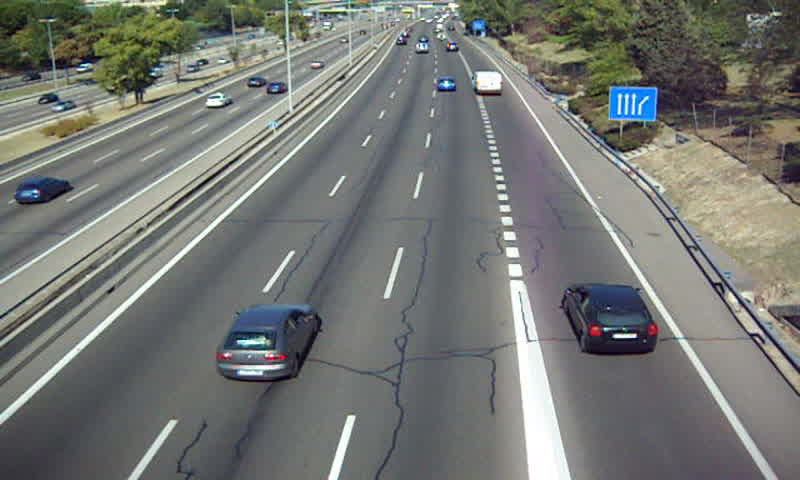car: (215, 306, 317, 382), (565, 284, 659, 354), (435, 78, 456, 93)
van: (474, 71, 502, 96)
